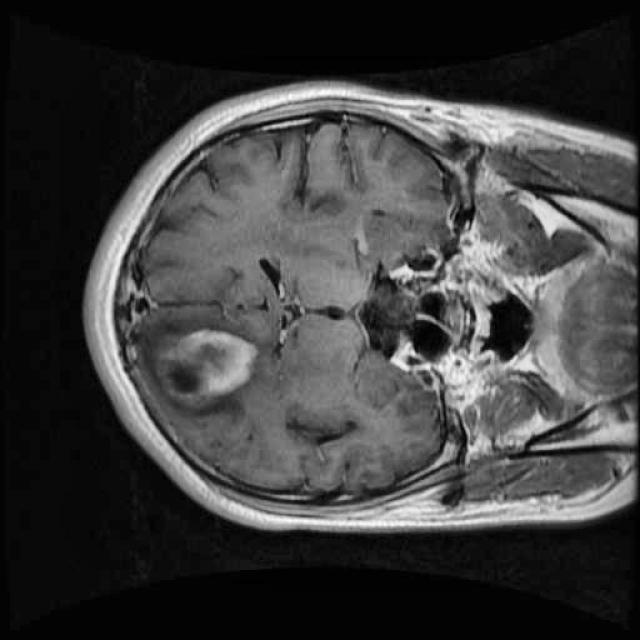Tumor: (138, 316, 268, 414)
